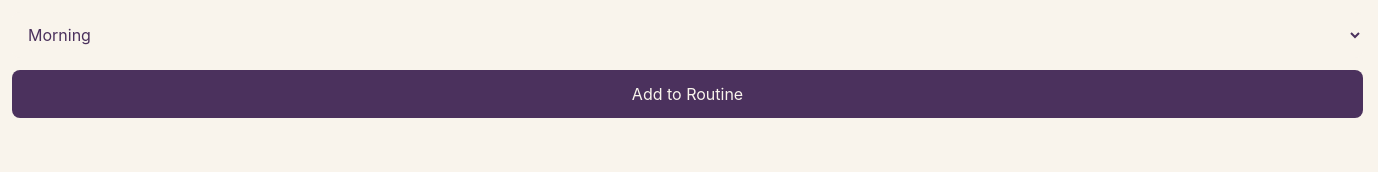
Test case: adds a product to a skincare routine
This screenshot has width=1378, height=172.
Select "Evening" in the dropdown at (688, 35), box [12,12,1363,58]
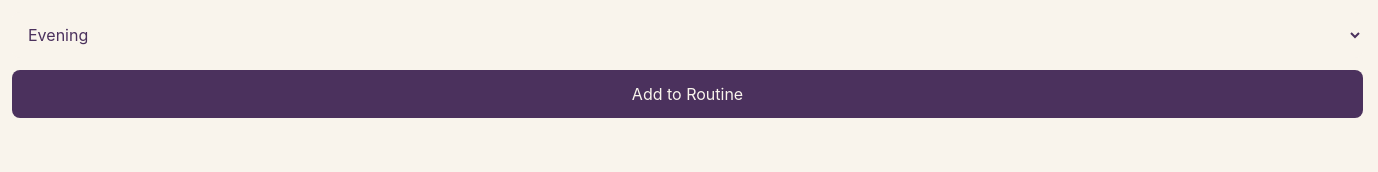
Click the button "Add to Routine".
click(688, 94)  # box [12,70,1363,118]
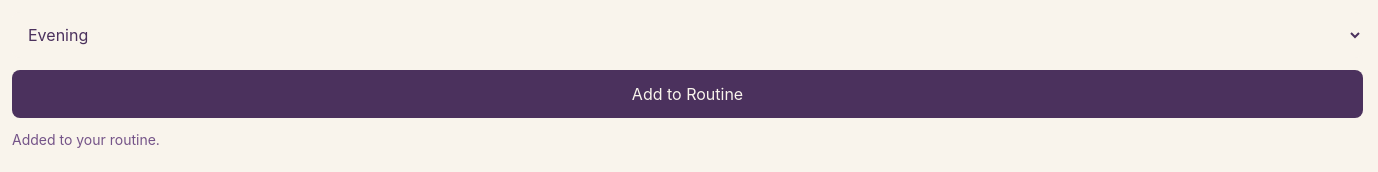
Expected: the text "Added to your routine." is shown, [12,131,160,148]
